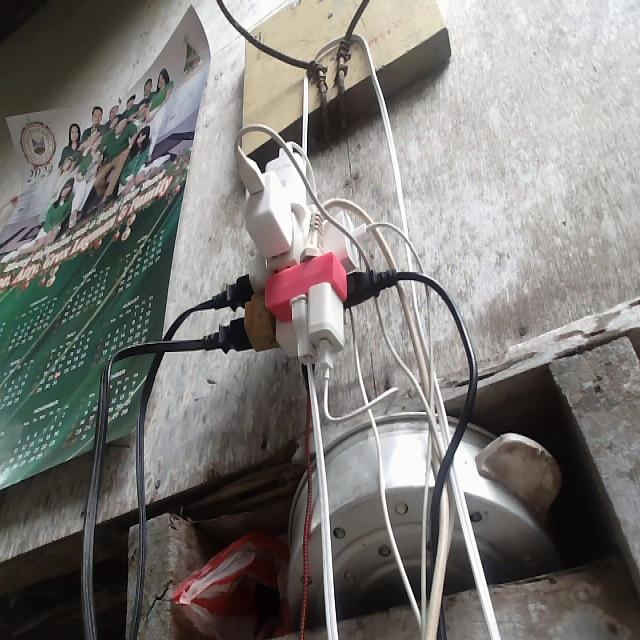-: (212, 136, 383, 383)
